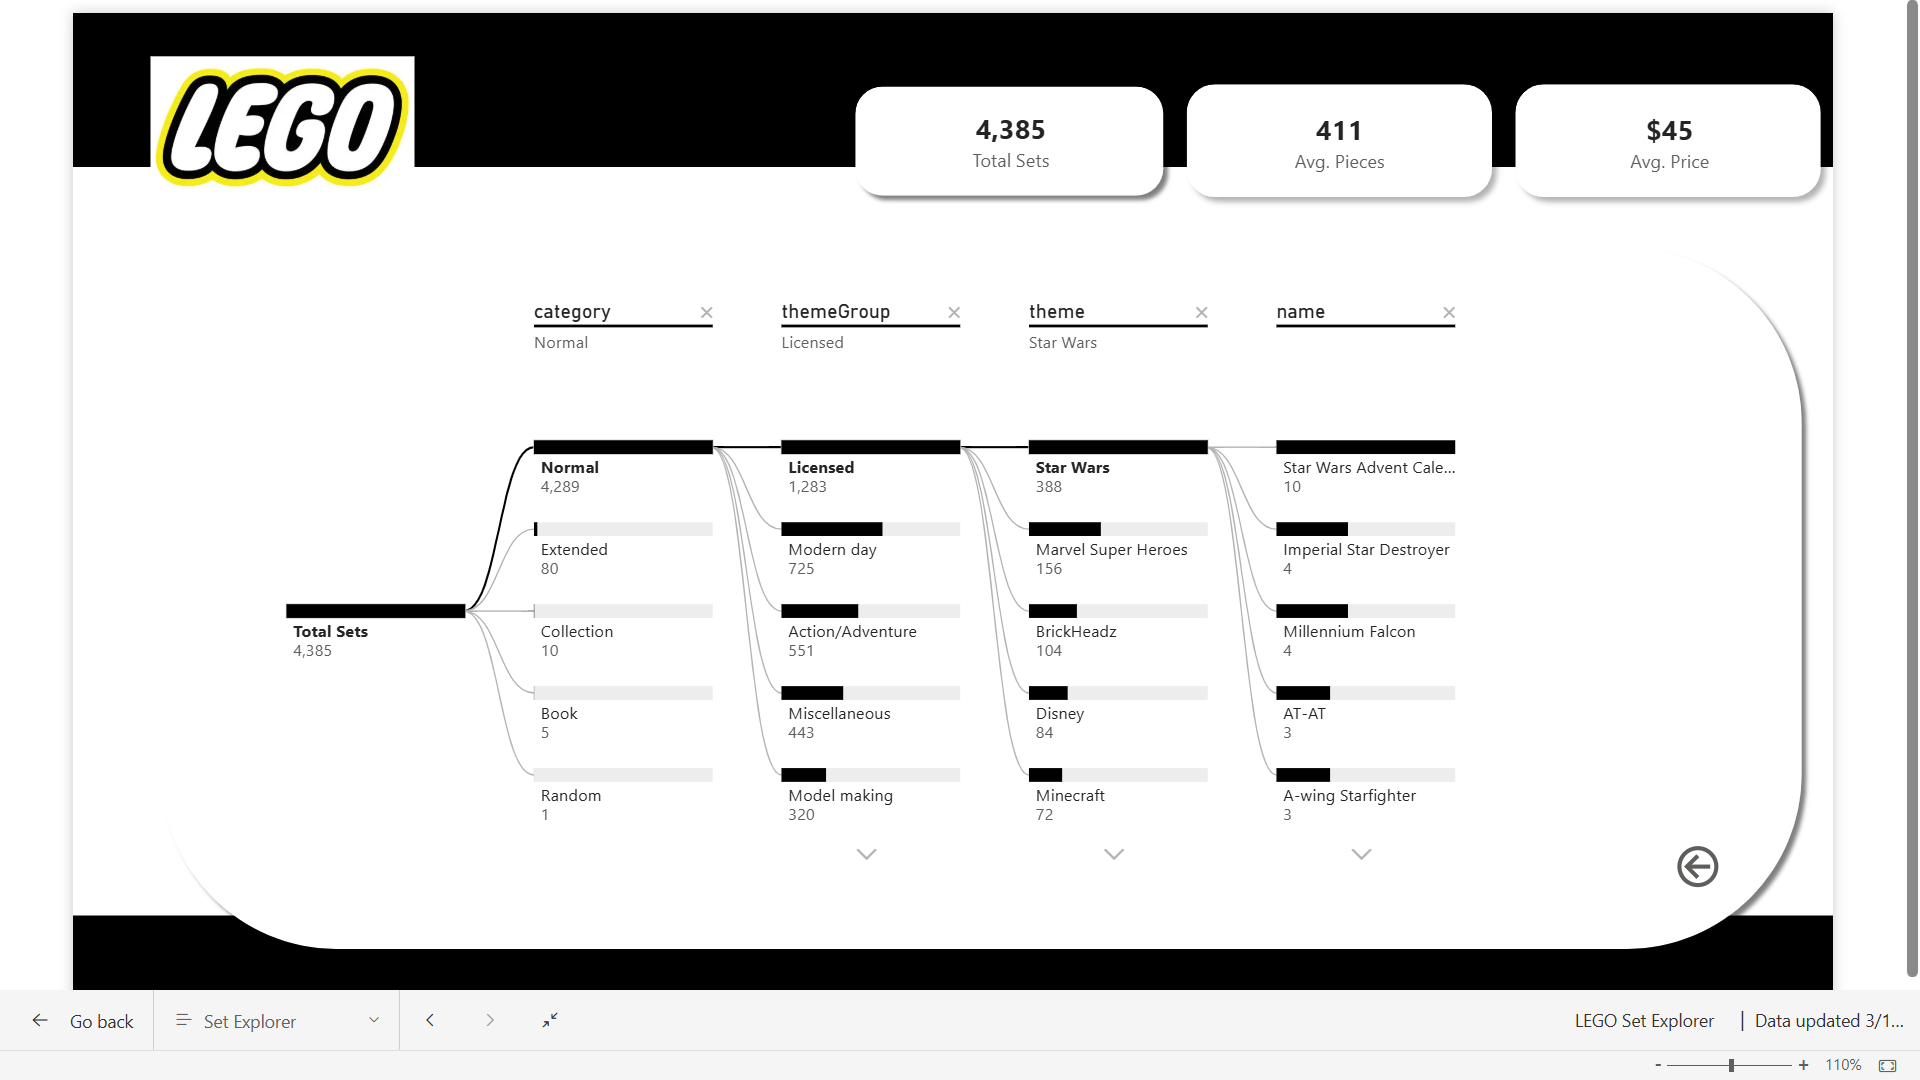

Layout of this report page (visuals, bound fields, positions):
{"tool":"powerbi","page":{"name":"Set Explorer","canvas":[1280,720],"ordinal":2},"visuals":[{"type":"shape","box":[0,0,1280,112.2],"z":0},{"type":"shape","box":[0,656.3,1280,63.9],"z":1000},{"type":"shape","box":[561,45.2,240.1,95.3],"z":2000},{"type":"shape","box":[801.1,42.8,240.1,100.1],"z":3000},{"type":"shape","box":[1040,42.8,240.1,100.1],"z":4000},{"type":"shape","box":[56.7,162.9,1208.9,526],"z":7500},{"type":"image","box":[56.7,29,191.8,112.2],"z":7750},{"type":"cardVisual","fields":{"Data":["Measure Table.Total Sets"]},"box":[577.9,60.9,208.7,63.9],"z":7875},{"type":"cardVisual","fields":{"Data":["Measure Table.Avg. Pieces"]},"box":[817.4,61.5,208.7,63.9],"z":7937},{"type":"cardVisual","fields":{"Data":["Measure Table.Avg. Price"]},"box":[1056.8,61.5,208.7,63.9],"z":11500},{"type":"decompositionTreeVisual","fields":{"Analyze":["Measure Table.Total Sets"],"ExplainBy":["lego_sets.category","lego_sets.themeGroup","lego_sets.theme","lego_sets.name"]},"box":[125.5,191.8,1054.4,464.5],"z":12000},{"type":"actionButton","box":[1161.8,600.8,55.5,39.8],"z":12500}]}

Visuals, with their boxes on the page's 1280x720 design canvas (x1, y1, x2, y2). These are canvas units, not pixel positions in the 1920x1080 screenshot, which may show the page scaled, cropped or inside an application window:
shape: Rect(0, 0, 1280, 112)
shape: Rect(0, 656, 1280, 720)
shape: Rect(561, 45, 801, 140)
shape: Rect(801, 43, 1041, 143)
shape: Rect(1040, 43, 1280, 143)
shape: Rect(57, 163, 1266, 689)
image: Rect(57, 29, 248, 141)
cardVisual - Measure Table.Total Sets: Rect(578, 61, 787, 125)
cardVisual - Measure Table.Avg. Pieces: Rect(817, 62, 1026, 125)
cardVisual - Measure Table.Avg. Price: Rect(1057, 62, 1266, 125)
decompositionTreeVisual - Measure Table.Total Sets x lego_sets.category: Rect(126, 192, 1180, 656)
actionButton: Rect(1162, 601, 1217, 641)
